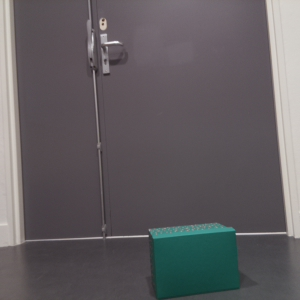small: (146, 220, 243, 300)
